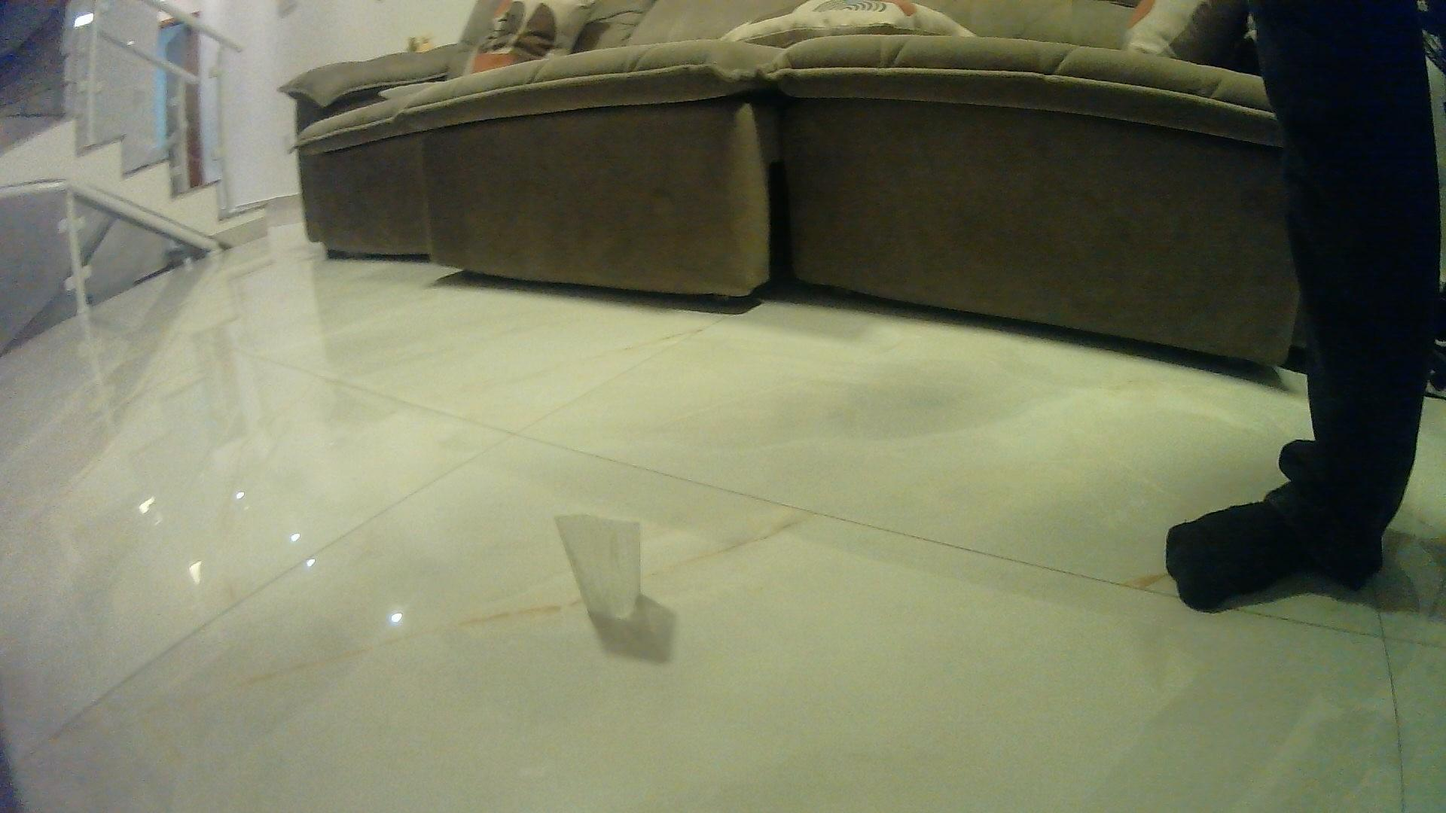erva_daninha: (547, 506, 646, 626)
